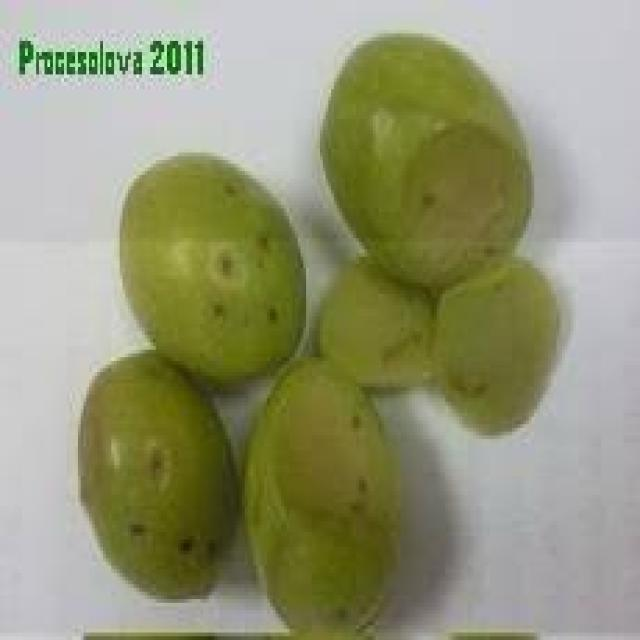Olive Fruit Fly: (242, 357, 398, 629), (122, 153, 303, 383), (81, 350, 234, 592)
